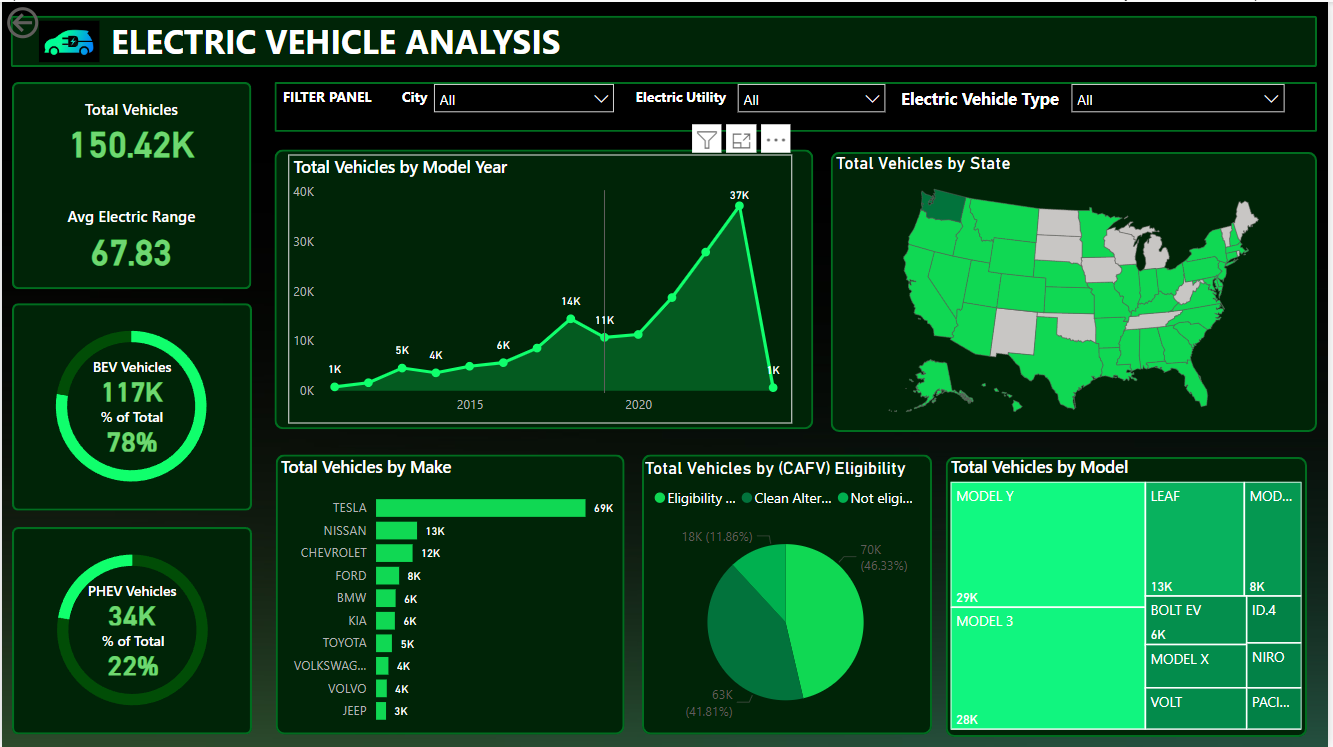

This screenshot's page, from the dashboard's own definition file:
{"tool":"powerbi","page":{"name":"Page 1","canvas":[1280,720],"ordinal":0},"visuals":[{"type":"shape","box":[8.4,13.3,1260.7,49.5],"z":0},{"type":"textbox","box":[100.1,10.9,472.9,55.5],"z":1000},{"type":"shape","box":[9.7,77.2,231,200],"z":2000},{"type":"card","title":"Total Vehicles","fields":{"Values":["Electric_Vehicle_Population_Data.Total Vehicles"]},"box":[9.7,92.9,230.4,65.1],"z":3000},{"type":"actionButton","box":[0,0,100,40],"z":4000},{"type":"card","title":"Avg  Electric Range","fields":{"Values":["Avg(Electric_Vehicle_Population_Data.Electric Range)"]},"box":[9.7,196.6,230.4,65.1],"z":5000},{"type":"shape","box":[9.7,290.8,231.6,200.3],"z":6000},{"type":"shape","box":[9.7,506.7,231.6,200.3],"z":7000},{"type":"donutChart","fields":{"Category":["Electric_Vehicle_Population_Data.Electric Vehicle Type"],"Y":["Electric_Vehicle_Population_Data.Total Vehicles"]},"box":[9.7,294.4,230.4,191.8],"z":8000},{"type":"card","title":"BEV Vehicles","fields":{"Values":["Electric_Vehicle_Population_Data.BEV vehicles"]},"box":[48.3,342.6,154.4,48.3],"z":9000},{"type":"card","title":"% of Total","fields":{"Values":["Electric_Vehicle_Population_Data.% BEV"]},"box":[65.1,390.9,120.6,48.3],"z":10000},{"type":"donutChart","fields":{"Category":["Electric_Vehicle_Population_Data.Electric Vehicle Type"],"Y":["Electric_Vehicle_Population_Data.Total Vehicles"]},"box":[10.9,510.3,230.4,191.8],"z":11000},{"type":"card","title":"PHEV Vehicles","fields":{"Values":["Electric_Vehicle_Population_Data.PHEV vehicles"]},"box":[48.3,558.6,154.4,48.3],"z":12000},{"type":"card","title":"% of Total","fields":{"Values":["Electric_Vehicle_Population_Data.% PHEV"]},"box":[49.5,606.8,154.4,48.3],"z":13000},{"type":"shape","box":[263,77.2,1006.2,48.3],"z":14000},{"type":"shape","box":[263,142.4,520,270],"z":15000},{"type":"areaChart","fields":{"Category":["Electric_Vehicle_Population_Data.Model Year"],"Y":["Electric_Vehicle_Population_Data.Total Vehicles"]},"box":[276.3,147.2,486.2,259.4],"z":16000},{"type":"shape","box":[799.9,144.8,469.3,270.2],"z":17000},{"type":"shapeMap","fields":{"Category":["Electric_Vehicle_Population_Data.State"],"Value":["Electric_Vehicle_Population_Data.Total Vehicles"]},"box":[799.9,144.8,469.3,267.8],"z":18000},{"type":"shape","box":[264.2,436.7,336.6,270.2],"z":19000},{"type":"barChart","fields":{"Category":["Electric_Vehicle_Population_Data.Make"],"Y":["Electric_Vehicle_Population_Data.Total Vehicles"]},"box":[264.2,436.7,336.6,270.2],"z":20000},{"type":"shape","box":[617.7,436.7,279.9,270.2],"z":21000},{"type":"pieChart","title":"Total Vehicles by (CAFV) Eligibility","fields":{"Category":["Electric_Vehicle_Population_Data.Clean Alternative Fuel Vehicle (CAFV) Eligibility"],"Y":["Electric_Vehicle_Population_Data.Total Vehicles"]},"box":[615.3,439.1,282.3,270.2],"z":22000},{"type":"shape","box":[910.9,439.1,348.7,270.2],"z":23000},{"type":"treemap","fields":{"Group":["Electric_Vehicle_Population_Data.Model"],"Values":["Electric_Vehicle_Population_Data.Total Vehicles"]},"box":[911.2,436.4,348.5,270.3],"z":24000},{"type":"textbox","box":[264.2,77.2,98.9,48.3],"z":25000},{"type":"slicer","fields":{"Values":["Electric_Vehicle_Population_Data.City"]},"box":[406.6,68.8,194.2,48.3],"z":26000},{"type":"textbox","box":[363.1,77.2,70,39.8],"z":27000},{"type":"slicer","fields":{"Values":["Electric_Vehicle_Population_Data.Electric Utility"]},"box":[699.7,68.8,162.9,48.3],"z":28000},{"type":"textbox","box":[600.8,77.2,108.6,43.4],"z":29000},{"type":"slicer","fields":{"Values":["Electric_Vehicle_Population_Data.Electric Vehicle Type"]},"box":[1021.9,68.8,225.6,48.3],"z":30000},{"type":"textbox","box":[862.6,77.2,172.5,39.8],"z":31000},{"type":"image","box":[13.3,13.3,102.5,49.5],"z":32000}]}

Visuals, with their boxes in screenshot pixels (x1, y1, x2, y2), scaled from the page's 1280x720 canvas onto the 1333x747 screenshot:
shape: pyautogui.locateOnScreen(9, 14, 1322, 65)
textbox: pyautogui.locateOnScreen(104, 11, 597, 69)
shape: pyautogui.locateOnScreen(10, 80, 251, 288)
"Total Vehicles" card: pyautogui.locateOnScreen(10, 96, 250, 164)
actionButton: pyautogui.locateOnScreen(0, 0, 104, 42)
"Avg  Electric Range" card: pyautogui.locateOnScreen(10, 204, 250, 272)
shape: pyautogui.locateOnScreen(10, 302, 251, 510)
shape: pyautogui.locateOnScreen(10, 526, 251, 734)
donutChart - Electric_Vehicle_Population_Data.Electric Vehicle Type x Electric_Vehicle_Population_Data.Total Vehicles: pyautogui.locateOnScreen(10, 305, 250, 504)
"BEV Vehicles" card: pyautogui.locateOnScreen(50, 355, 211, 406)
"% of Total" card: pyautogui.locateOnScreen(68, 406, 193, 456)
donutChart - Electric_Vehicle_Population_Data.Electric Vehicle Type x Electric_Vehicle_Population_Data.Total Vehicles: pyautogui.locateOnScreen(11, 529, 251, 728)
"PHEV Vehicles" card: pyautogui.locateOnScreen(50, 580, 211, 630)
"% of Total" card: pyautogui.locateOnScreen(52, 630, 212, 680)
shape: pyautogui.locateOnScreen(274, 80, 1322, 130)
shape: pyautogui.locateOnScreen(274, 148, 815, 428)
areaChart - Electric_Vehicle_Population_Data.Model Year x Electric_Vehicle_Population_Data.Total Vehicles: pyautogui.locateOnScreen(288, 153, 794, 422)
shape: pyautogui.locateOnScreen(833, 150, 1322, 431)
shapeMap - Electric_Vehicle_Population_Data.State x Electric_Vehicle_Population_Data.Total Vehicles: pyautogui.locateOnScreen(833, 150, 1322, 428)
shape: pyautogui.locateOnScreen(275, 453, 626, 733)
barChart - Electric_Vehicle_Population_Data.Make x Electric_Vehicle_Population_Data.Total Vehicles: pyautogui.locateOnScreen(275, 453, 626, 733)
shape: pyautogui.locateOnScreen(643, 453, 935, 733)
"Total Vehicles by (CAFV) Eligibility" pieChart: pyautogui.locateOnScreen(641, 456, 935, 736)
shape: pyautogui.locateOnScreen(949, 456, 1312, 736)
treemap - Electric_Vehicle_Population_Data.Model x Electric_Vehicle_Population_Data.Total Vehicles: pyautogui.locateOnScreen(949, 453, 1312, 733)
textbox: pyautogui.locateOnScreen(275, 80, 378, 130)
slicer - Electric_Vehicle_Population_Data.City: pyautogui.locateOnScreen(423, 71, 626, 121)
textbox: pyautogui.locateOnScreen(378, 80, 451, 121)
slicer - Electric_Vehicle_Population_Data.Electric Utility: pyautogui.locateOnScreen(729, 71, 898, 121)
textbox: pyautogui.locateOnScreen(626, 80, 739, 125)
slicer - Electric_Vehicle_Population_Data.Electric Vehicle Type: pyautogui.locateOnScreen(1064, 71, 1299, 121)
textbox: pyautogui.locateOnScreen(898, 80, 1078, 121)
image: pyautogui.locateOnScreen(14, 14, 121, 65)
